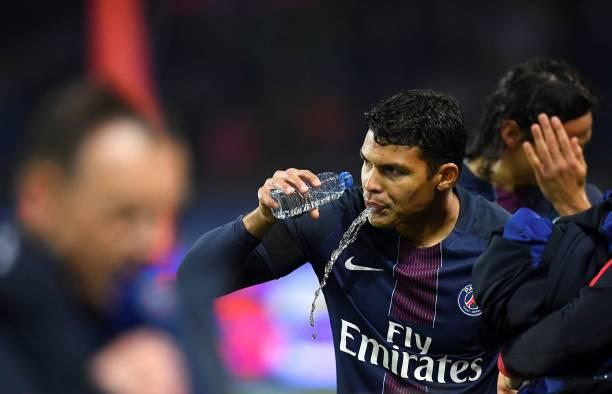Spitting: (343, 87, 471, 249)
